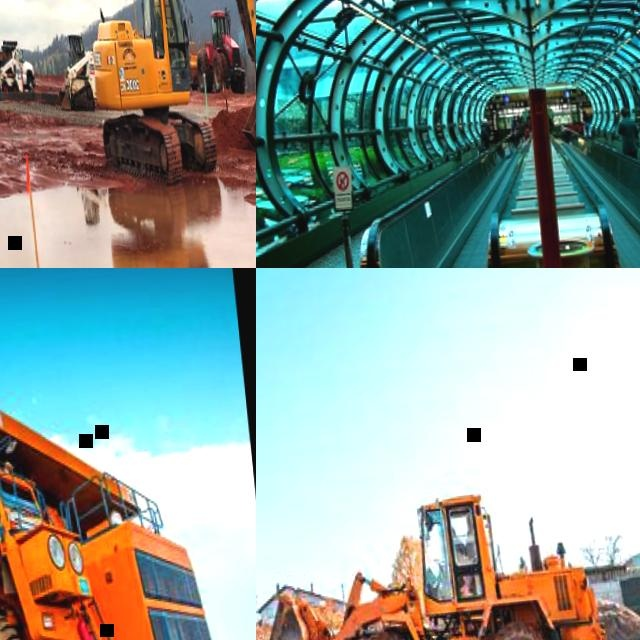NO-Hardhat: (619, 108, 629, 119), (482, 119, 486, 124), (517, 117, 520, 122), (584, 119, 586, 123)
NO-Safety Vest: (619, 117, 637, 151), (480, 123, 489, 137), (515, 122, 523, 136), (583, 122, 588, 131)
Person: (614, 108, 639, 160), (478, 118, 491, 149), (514, 116, 524, 142), (582, 119, 589, 137)
machinery: (0, 366, 251, 640), (256, 473, 606, 640), (69, 0, 256, 183), (182, 7, 245, 96), (47, 31, 98, 112), (0, 36, 34, 92), (0, 47, 22, 93)
